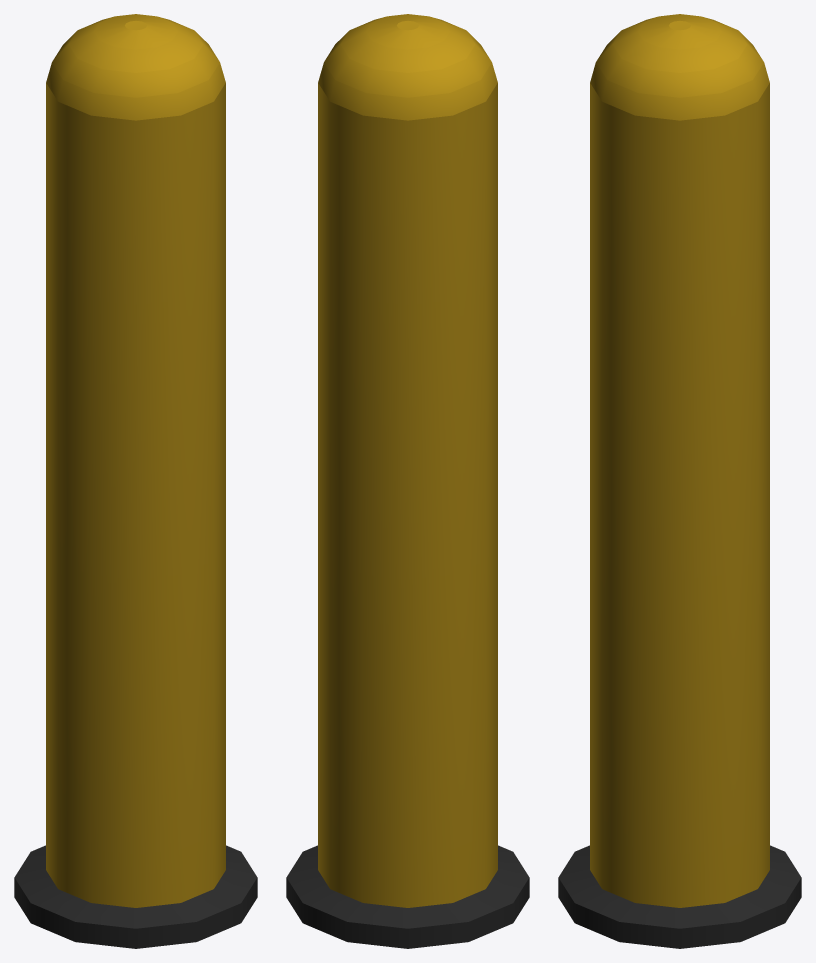
Rendered from barrier.bollard.yellow.glb.
3 views of the same model, side by side, from view 1: azimuth 30°, elevation 25°; view 2: azimuth 150°, elevation 25°; view 3: azimuth 270°, elevation 25° (orthographic).
Visible parts, largest first — view 1: barrier_bollard_yellow; view 2: barrier_bollard_yellow; view 3: barrier_bollard_yellow.
Part boxes in pixels (box(x1,y1,x2,y2)): barrier_bollard_yellow: box(14, 14, 257, 948); barrier_bollard_yellow: box(286, 14, 529, 948); barrier_bollard_yellow: box(558, 14, 801, 948).
Size of what is drawn, in the model's own units: 0.24 by 0.95 by 0.24.
